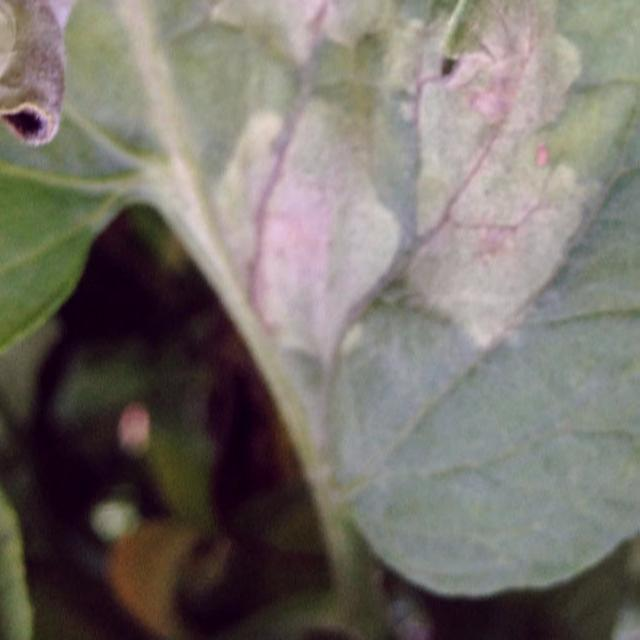Tomato leaf late blight: (315, 0, 640, 640), (125, 0, 626, 371)
